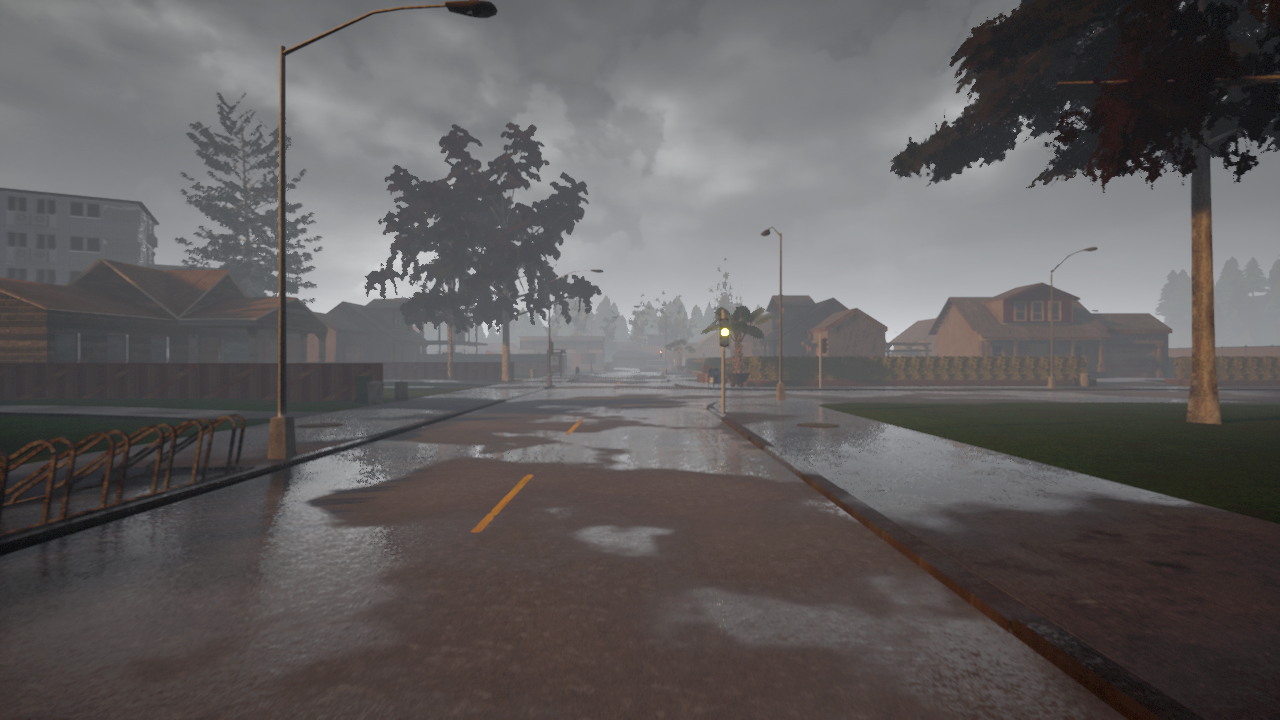yellow: (718, 316, 730, 348)
